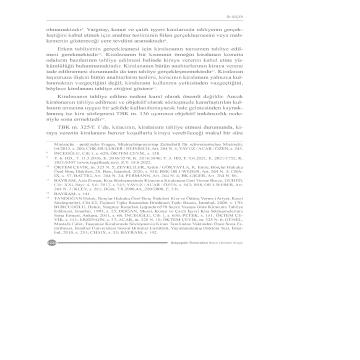footer: (51, 142, 244, 237)
header: (225, 13, 244, 20)
